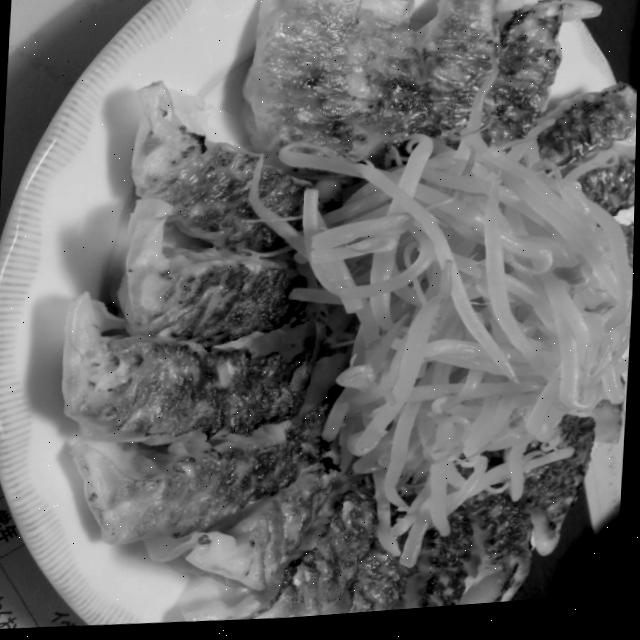带馅早点: (38, 0, 640, 637)
